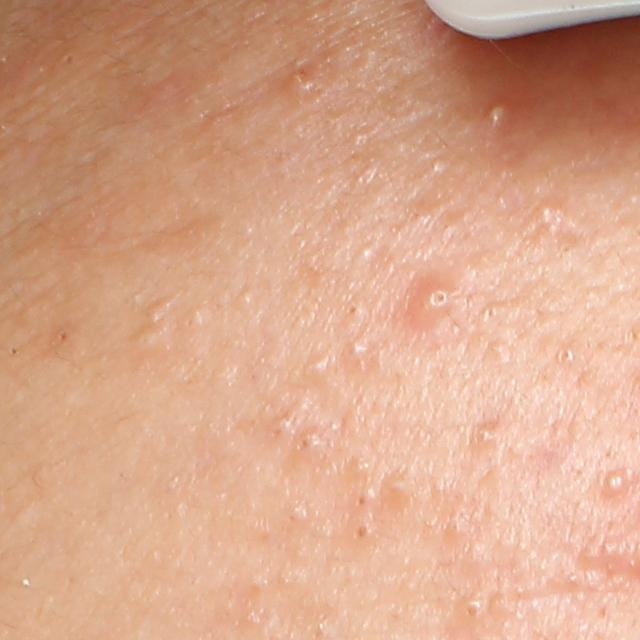atrophic_scar: (510, 577, 583, 609)
comedo: (451, 596, 482, 631), (381, 471, 412, 505), (302, 349, 337, 379), (344, 334, 375, 366), (293, 430, 324, 461), (442, 509, 472, 540), (183, 305, 216, 333), (484, 333, 512, 365), (145, 296, 176, 324), (475, 305, 509, 328), (337, 297, 367, 322), (351, 517, 378, 544), (291, 72, 317, 99), (351, 240, 377, 266), (129, 327, 157, 350), (534, 200, 557, 226), (554, 342, 579, 365), (235, 288, 257, 314), (426, 157, 449, 179), (52, 325, 74, 347), (351, 486, 375, 506), (286, 505, 311, 524), (475, 424, 497, 445), (4, 340, 24, 362)
papule: (396, 275, 456, 338)
pustule: (474, 95, 526, 141), (601, 468, 633, 502)
